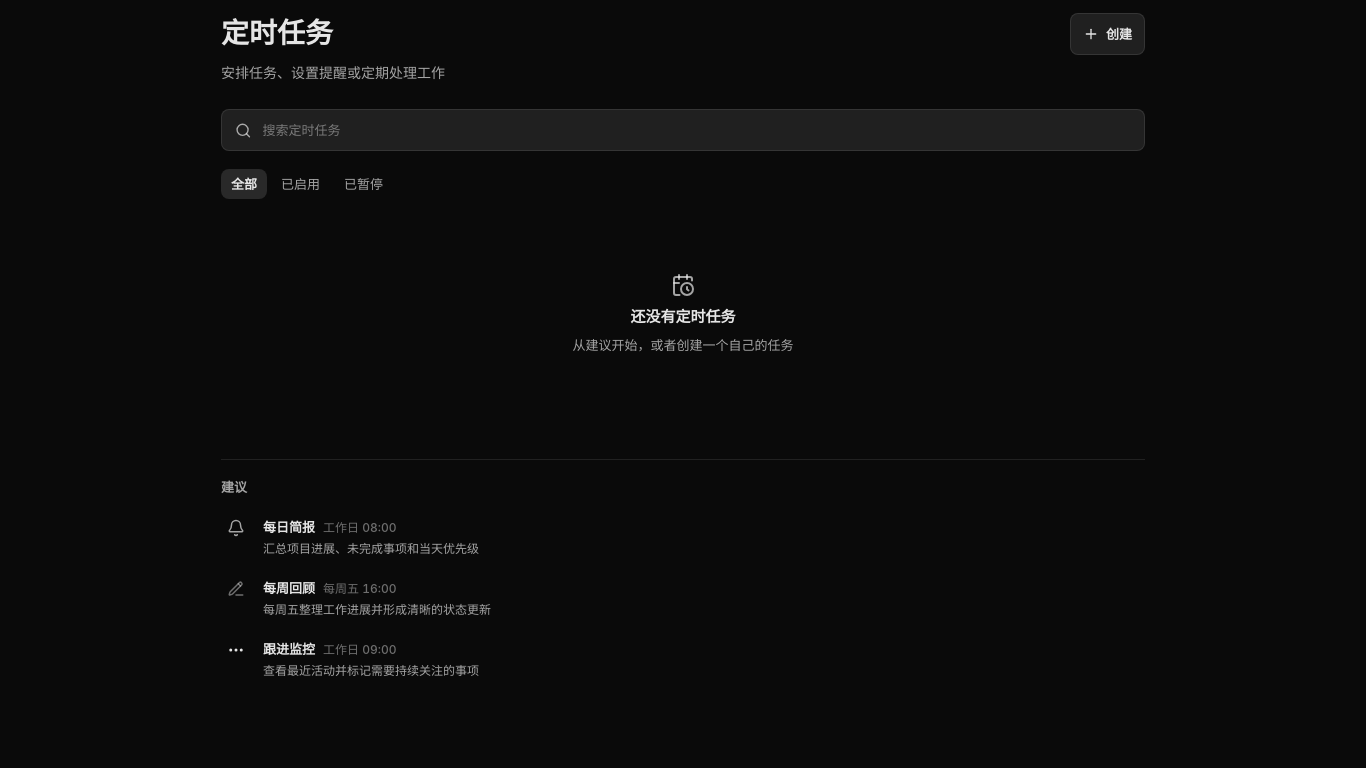
Test case: SchedulesView › prefills suggested tasks without creating them immediately
The image size is (1366, 768).
Click the button "每日简报 工作日 08:00 汇总项目进展、未完成事项和当天优先级" at (289, 527), box [221,507,1145,568]
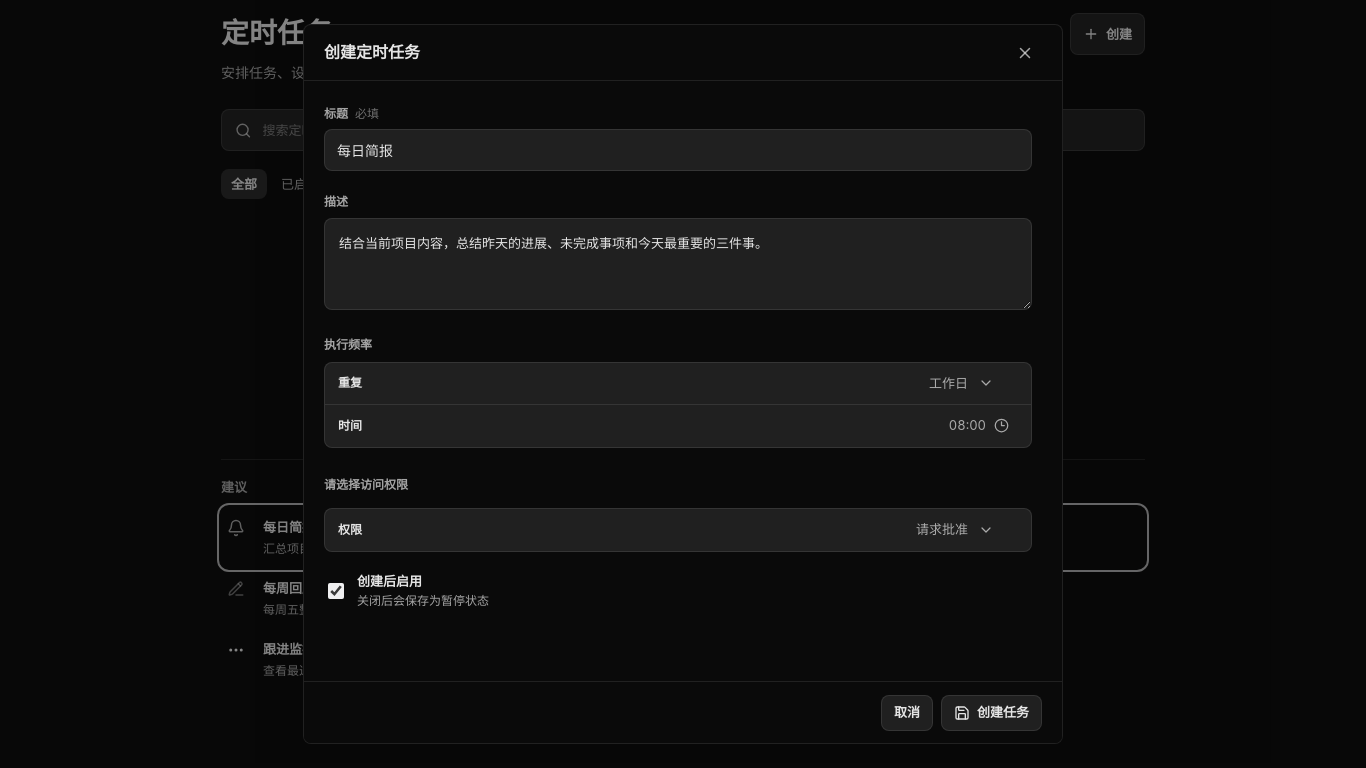
Now the field named "定时任务标题" holds "每日简报", box [324,129,1032,171]
Now the dropdown named "重复" holds "weekdays", box [553,365,1018,401]
